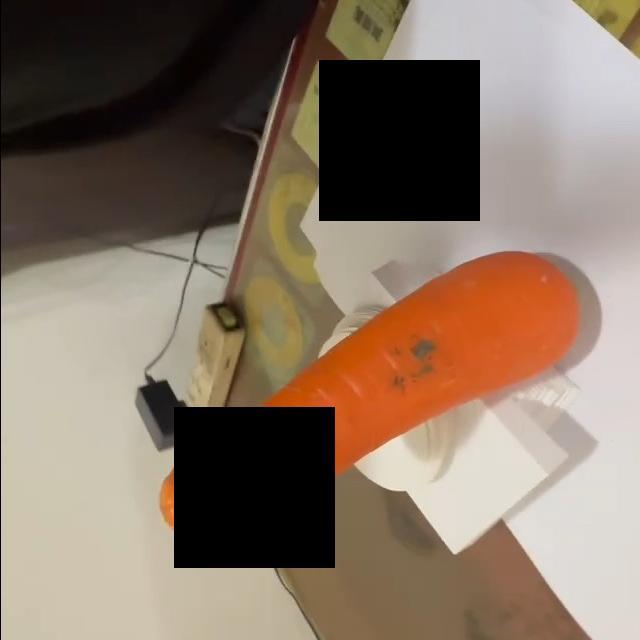carrot: (157, 248, 586, 537)
